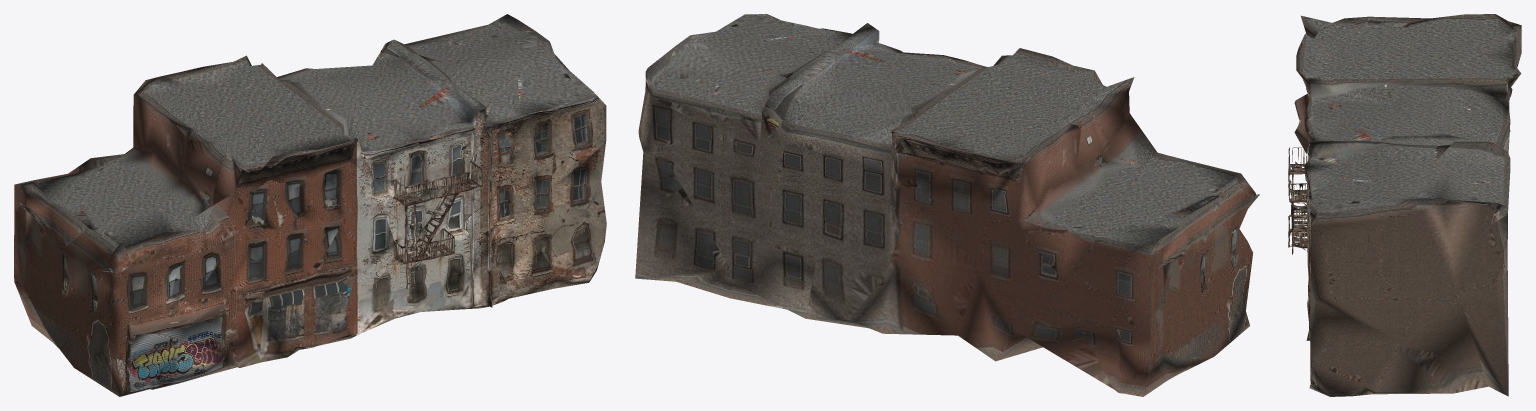
The model's file is row_four_hq_lod.glb.
The picture shows the model from 3 angles, left to right: view 1: azimuth 30°, elevation 25°; view 2: azimuth 150°, elevation 25°; view 3: azimuth 270°, elevation 25°; orthographic projection. The views are drawn at different scales.
Parts seen in each view (by area): view 1: mesh_node; view 2: mesh_node; view 3: mesh_node.
Part boxes in pixels (x1,y1,x2,y2): mesh_node: (14, 14, 606, 396); mesh_node: (635, 14, 1259, 396); mesh_node: (1288, 14, 1521, 396).
Bounding box in the file's own units: 40.25 × 16 × 16.66.
Materials: 1 (1 with a texture image).
